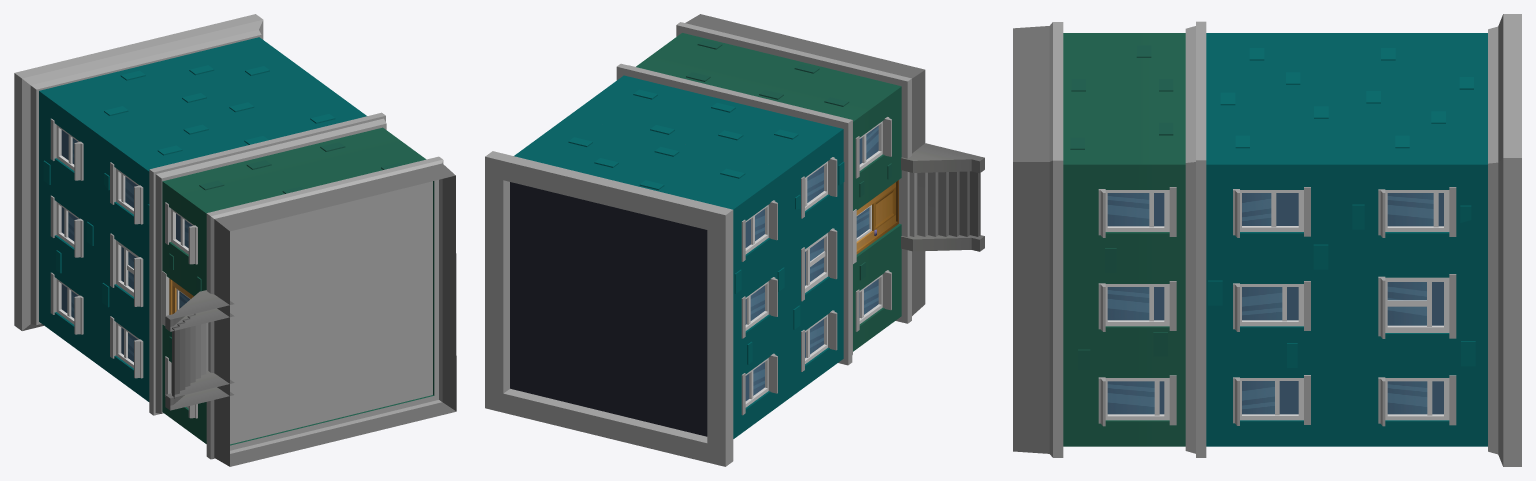
Rendered from Building_2_7_H.fbx.
3 views of the same model, side by side, from view 1: azimuth 30°, elevation 25°; view 2: azimuth 150°, elevation 25°; view 3: azimuth 270°, elevation 25° (orthographic). The views are drawn at different scales.
Parts seen in each view (by area): view 1: Building_2_7_H; view 2: Building_2_7_H; view 3: Building_2_7_H.
Part boxes in pixels (left/top/right/bottom): Building_2_7_H: left=14, top=14, right=456, bottom=466; Building_2_7_H: left=485, top=14, right=984, bottom=466; Building_2_7_H: left=1013, top=14, right=1521, bottom=466.
Bounding box in the file's own units: 754 × 620 × 926.
